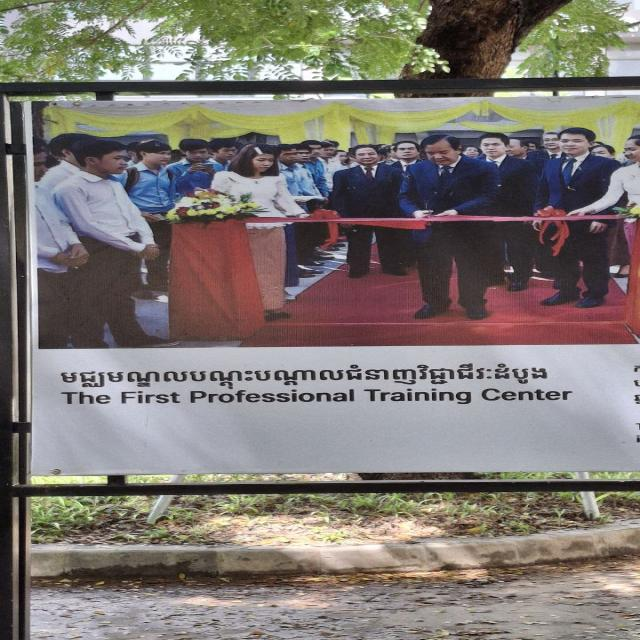Yolov11kh: (49, 357, 567, 390)
